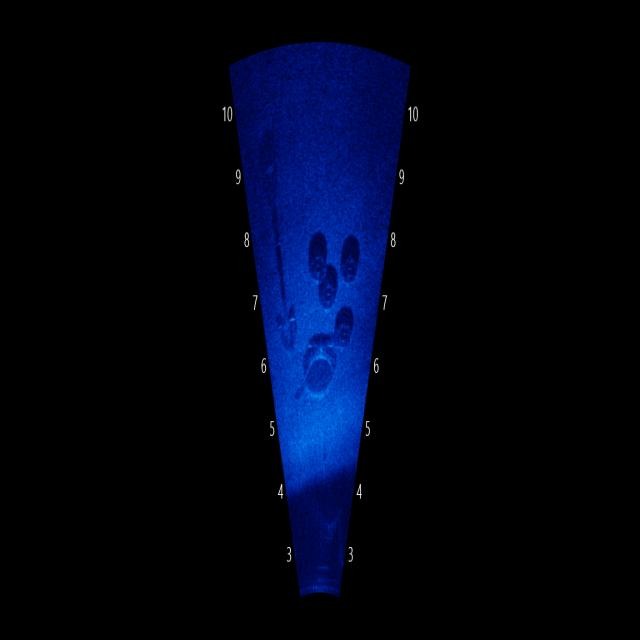circle: (292, 332, 343, 414), (314, 255, 346, 320), (339, 233, 367, 292), (302, 238, 335, 287), (330, 302, 359, 355)
